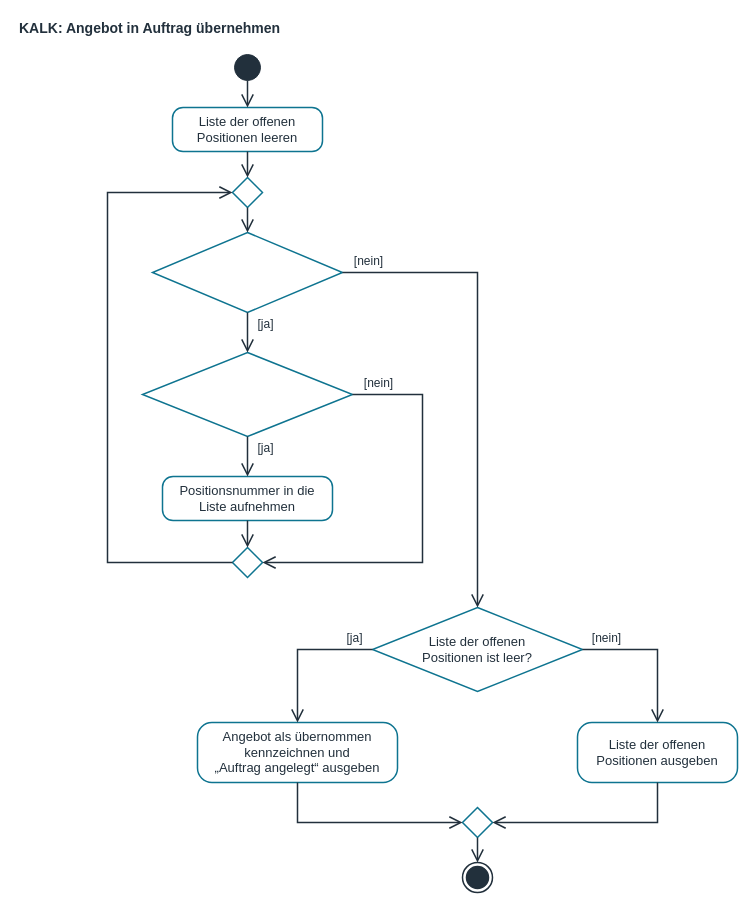
Image size: 755x910. Some labels were removed from this diagram. Here are the shapes that lost their labels. From the top down, the centre of each, then its label:
At point 247,272: "Weitere Position vorhanden?".
At point 247,394: "Stundensatz der Position = 0,00 €?".
